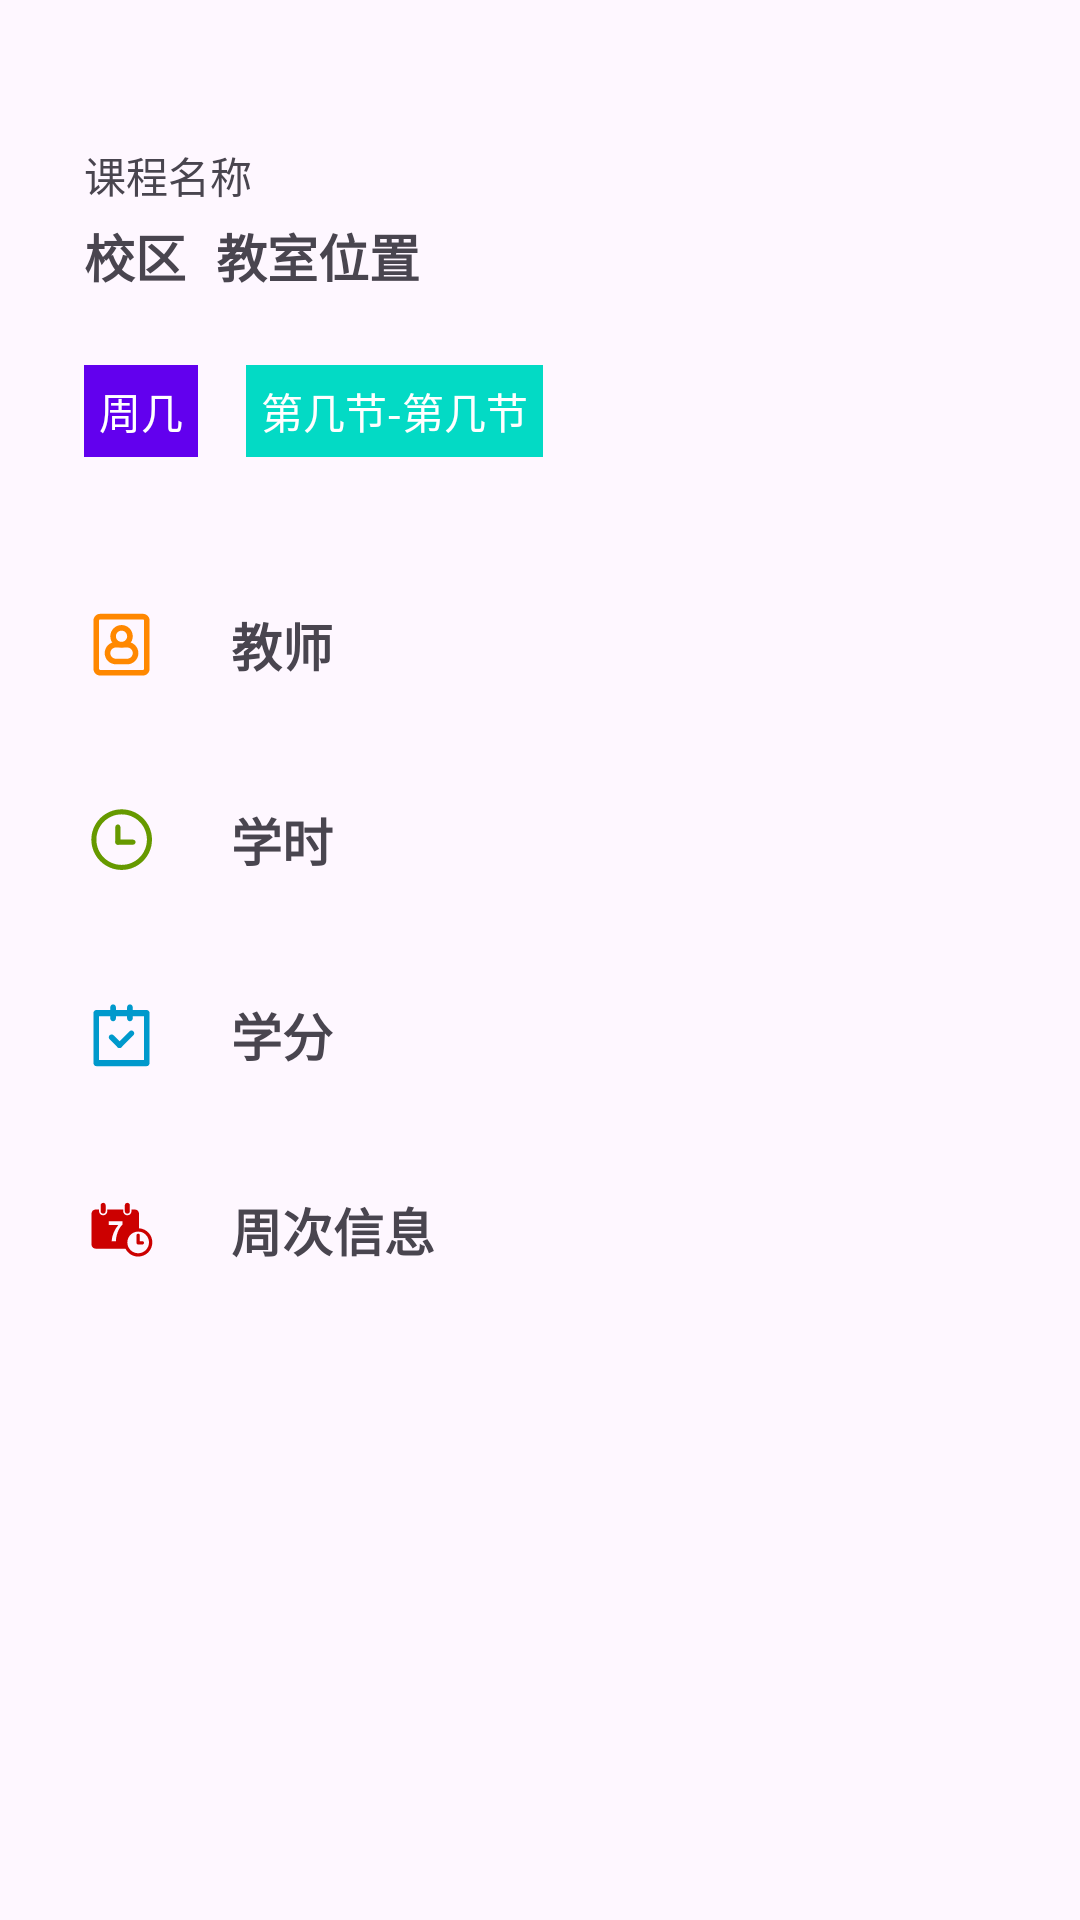

Named icons in this screenshot (1080 x 1920) and their bounding boxes, (x1, y1, x2, y2):
teacher: (93, 613, 150, 676)
time: (91, 809, 152, 870)
week: (91, 1202, 153, 1257)
